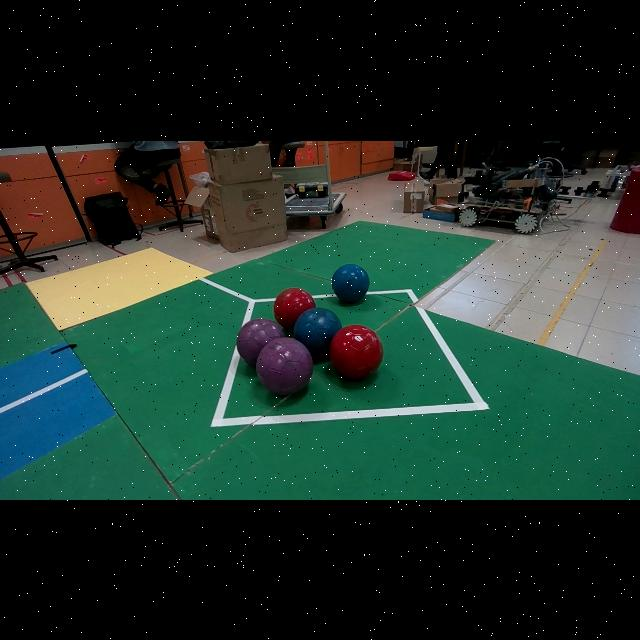B: (294, 307, 341, 357), (331, 264, 369, 301)
P: (256, 336, 313, 395), (237, 317, 285, 366)
R: (330, 325, 383, 378), (274, 286, 316, 330)
